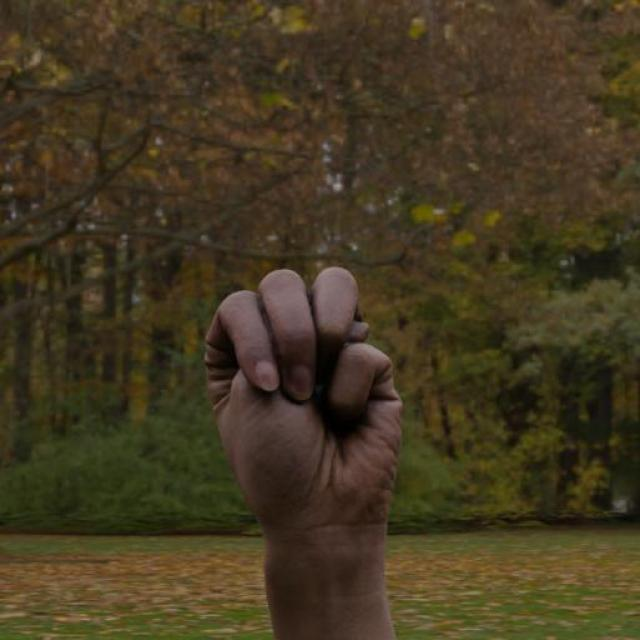M: (202, 263, 406, 536)
